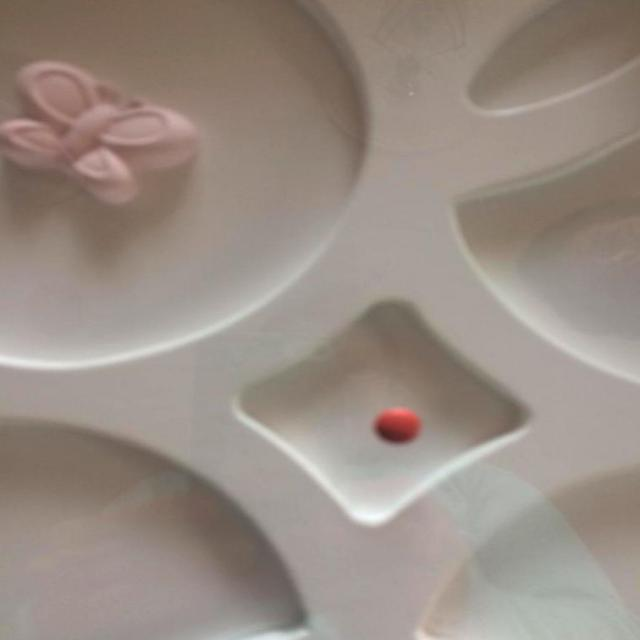pill: (374, 405, 429, 448)
